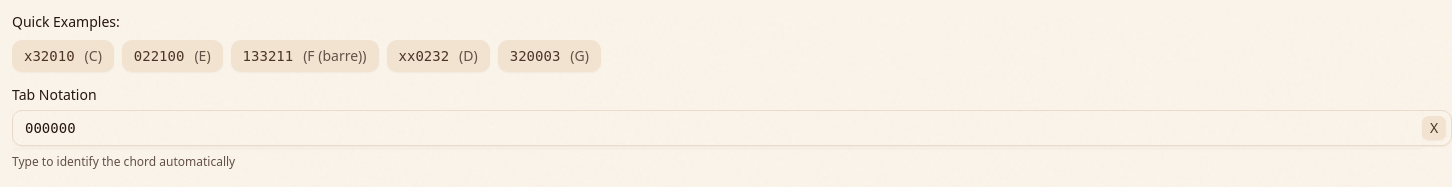
Test: Form - Example Buttons › should set input value when example button is clicked
Expected: the field with test id "tab-input" is shown, 13,108 -> 1422,148
Step 1. Click the button "x32010 (C)" → point(63, 56), box 12,40 -> 114,72
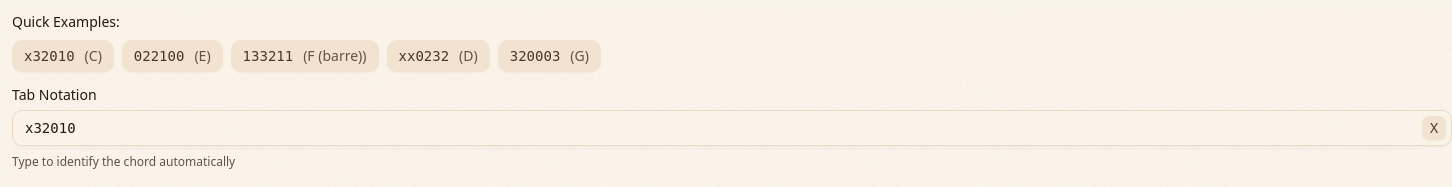
Expected: the field with test id "tab-input" holds "x32010", 13,108 -> 1422,148
